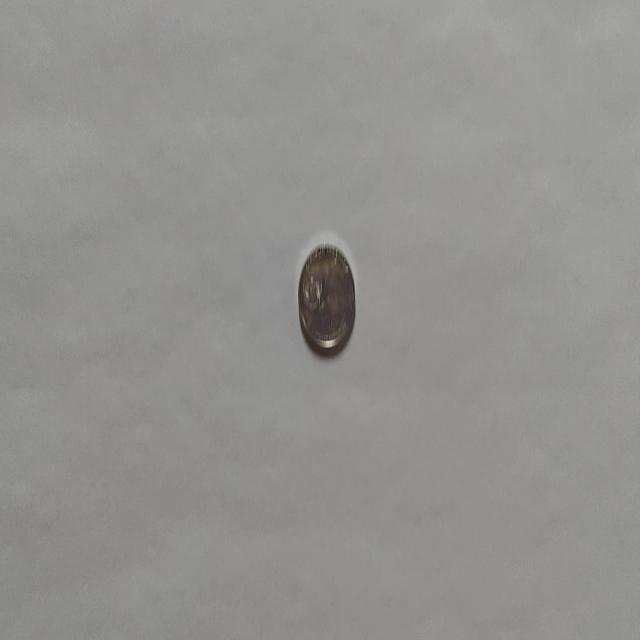dua ratus rupiah: (296, 241, 356, 353)
